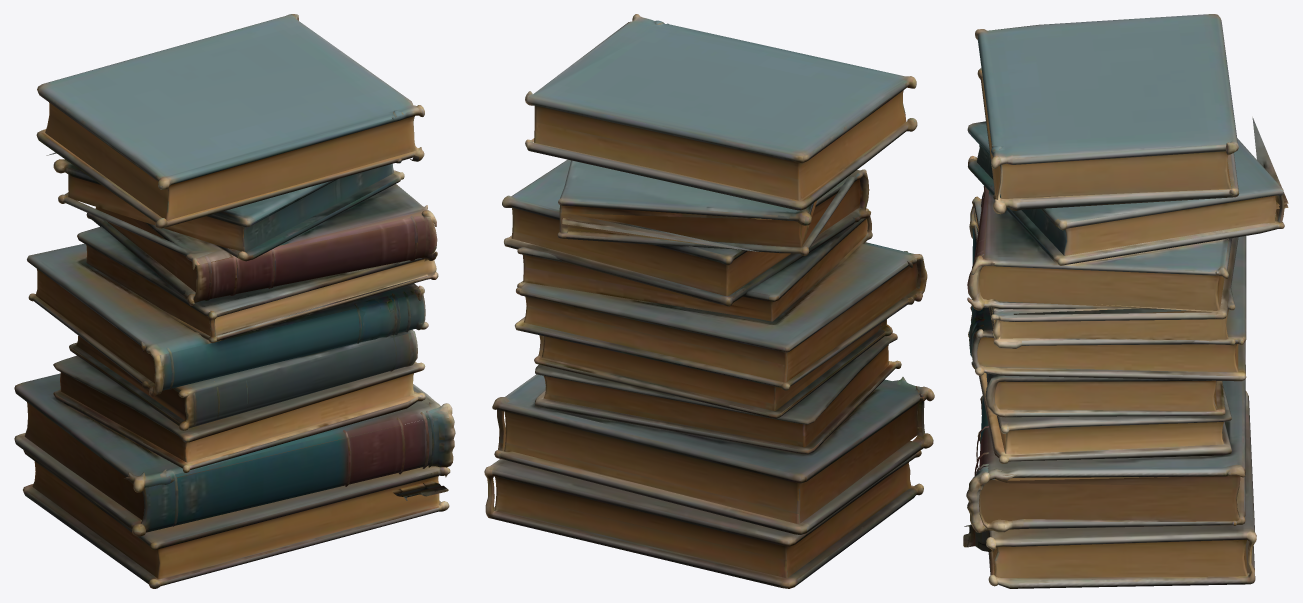
Rendered from antique_book_stack.glb.
The picture shows the model from 3 angles, left to right: view 1: azimuth 30°, elevation 25°; view 2: azimuth 150°, elevation 25°; view 3: azimuth 270°, elevation 25°; orthographic projection.
Parts seen in each view (by area): view 1: tripo_5422a392_671d_4969_9879_d02bfb38fd47; view 2: tripo_5422a392_671d_4969_9879_d02bfb38fd47; view 3: tripo_5422a392_671d_4969_9879_d02bfb38fd47.
Boxes of the visible parts, x1=… form: tripo_5422a392_671d_4969_9879_d02bfb38fd47: x1=14, y1=14, x2=455, y2=588; tripo_5422a392_671d_4969_9879_d02bfb38fd47: x1=484, y1=14, x2=934, y2=588; tripo_5422a392_671d_4969_9879_d02bfb38fd47: x1=963, y1=14, x2=1288, y2=588.
Size of the model in its own units: 0.7895 by 0.9995 by 0.6851.
Materials: 1 (1 with a texture image).
